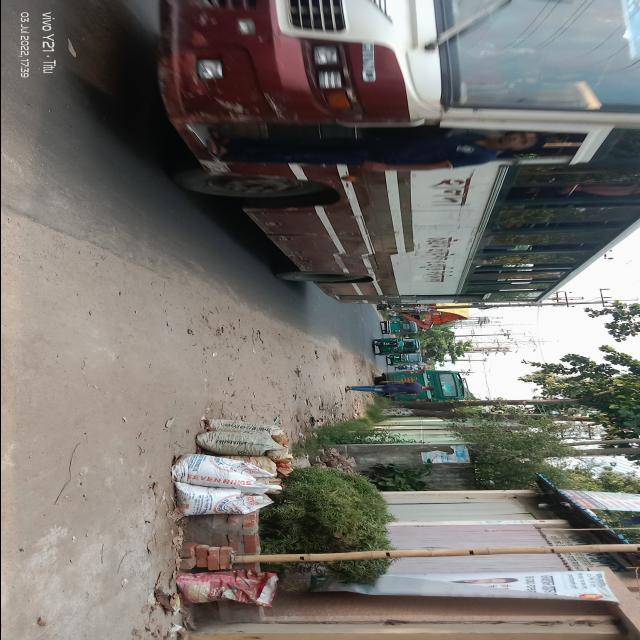bus: (127, 3, 640, 313)
